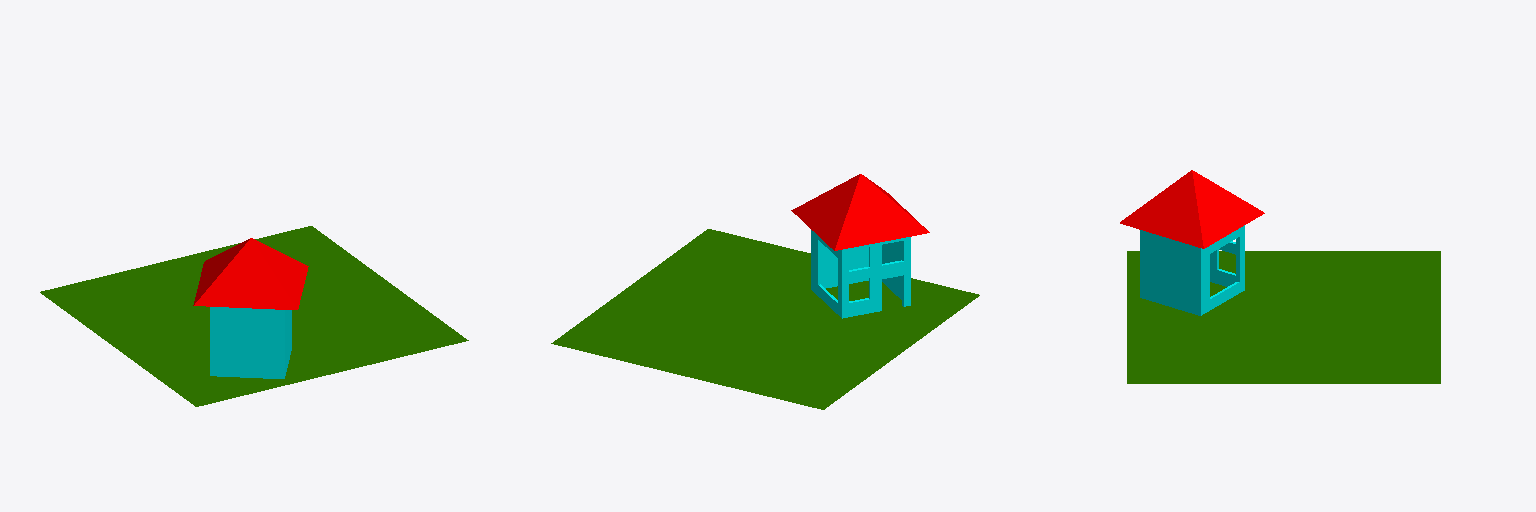
Rendered from house_no_windows.obj.
The picture shows the model from 3 angles: view 1: azimuth 30°, elevation 25°; view 2: azimuth 150°, elevation 25°; view 3: azimuth 270°, elevation 25°; orthographic projection.
Parts seen in each view (by area): view 1: pPlane1, pPyramid1 group1, pCube10; view 2: pPlane1, pCube10, pPyramid1 group1; view 3: pPlane1, pCube10, pPyramid1 group1.
Boxes of the visible parts, x1=… form: pPlane1: x1=40, y1=226, x2=468, y2=406; pPyramid1 group1: x1=193, y1=238, x2=308, y2=309; pCube10: x1=210, y1=307, x2=291, y2=378; pPlane1: x1=551, y1=229, x2=979, y2=409; pCube10: x1=811, y1=230, x2=910, y2=318; pPyramid1 group1: x1=791, y1=174, x2=929, y2=250; pPlane1: x1=1127, y1=251, x2=1440, y2=383; pCube10: x1=1140, y1=225, x2=1244, y2=315; pPyramid1 group1: x1=1120, y1=170, x2=1264, y2=248.
Bounding box in the file's own units: 24.17 × 10.57 × 24.8.